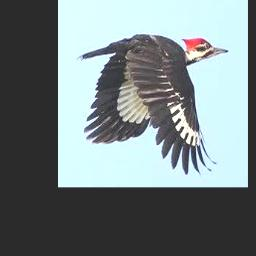Woodpecker: (75, 33, 228, 174)
